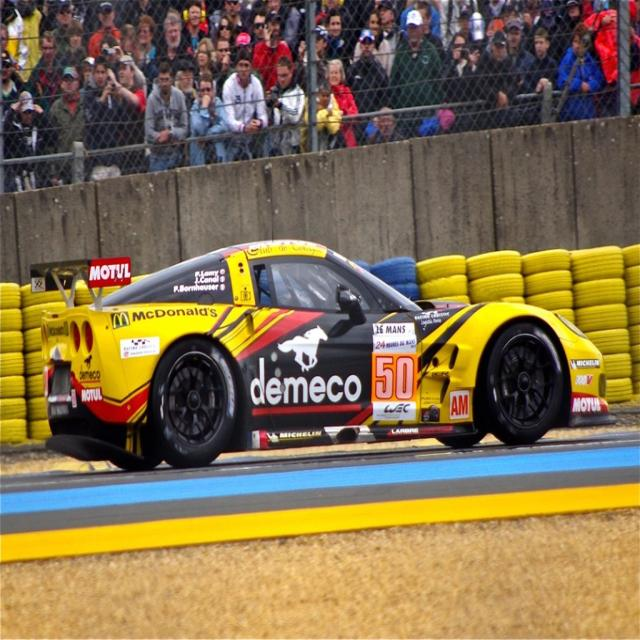car: (33, 229, 609, 469)
